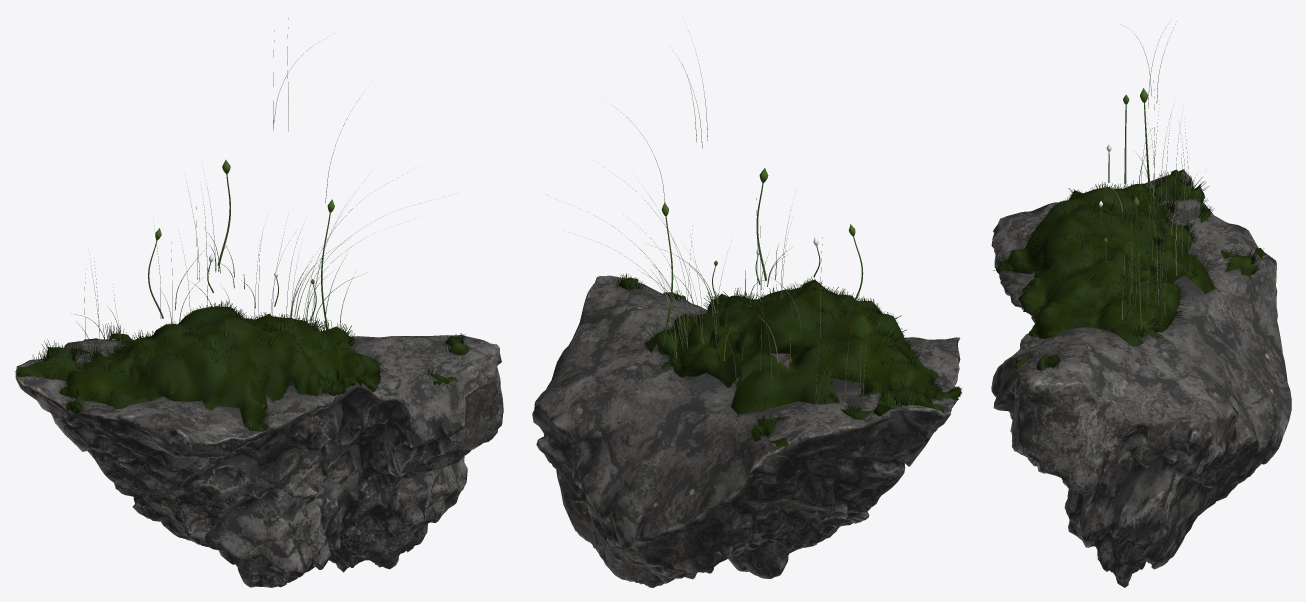
Rendered from flowerrock.glb.
The picture shows the model from 3 angles, left to right: view 1: azimuth 30°, elevation 25°; view 2: azimuth 150°, elevation 25°; view 3: azimuth 270°, elevation 25°; orthographic projection. The views are drawn at different scales.
Visible parts, largest first — view 1: W_Rock, W_MossCap, W_Moss, W_VEG_06_HairlikeSedges, W_VEG_05_FineMeadowGrasses; view 2: W_Rock, W_MossCap, W_Moss, W_VEG_06_HairlikeSedges, W_VEG_05_FineMeadowGrasses; view 3: W_Rock, W_MossCap, W_Moss, W_VEG_06_HairlikeSedges, W_VEG_05_FineMeadowGrasses.
Boxes of the visible parts, <box> form: W_Rock: <box>15,335,503,587</box>; W_MossCap: <box>16,306,469,431</box>; W_Moss: <box>14,300,468,431</box>; W_VEG_06_HairlikeSedges: <box>84,18,362,356</box>; W_VEG_05_FineMeadowGrasses: <box>75,228,355,356</box>; W_Rock: <box>532,275,960,587</box>; W_MossCap: <box>619,277,961,449</box>; W_Moss: <box>612,273,961,443</box>; W_VEG_06_HairlikeSedges: <box>612,31,870,405</box>; W_VEG_05_FineMeadowGrasses: <box>637,245,883,405</box>; W_Rock: <box>991,169,1291,587</box>; W_MossCap: <box>996,169,1269,373</box>; W_Moss: <box>993,170,1263,373</box>; W_VEG_06_HairlikeSedges: <box>1124,21,1203,314</box>; W_VEG_05_FineMeadowGrasses: <box>1104,148,1202,319</box>.
Size of what is drawn, in the model's own units: 2.9 by 3.67 by 1.85.
10 materials, 1 textured.
